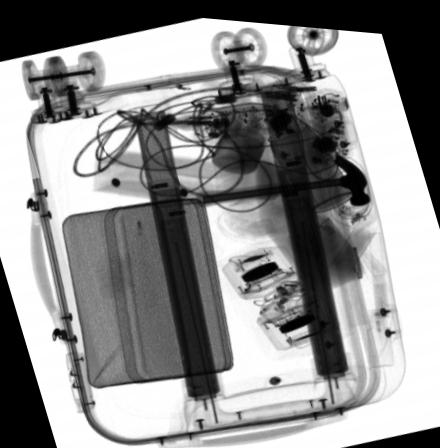Hammer: (194, 148, 370, 204)
